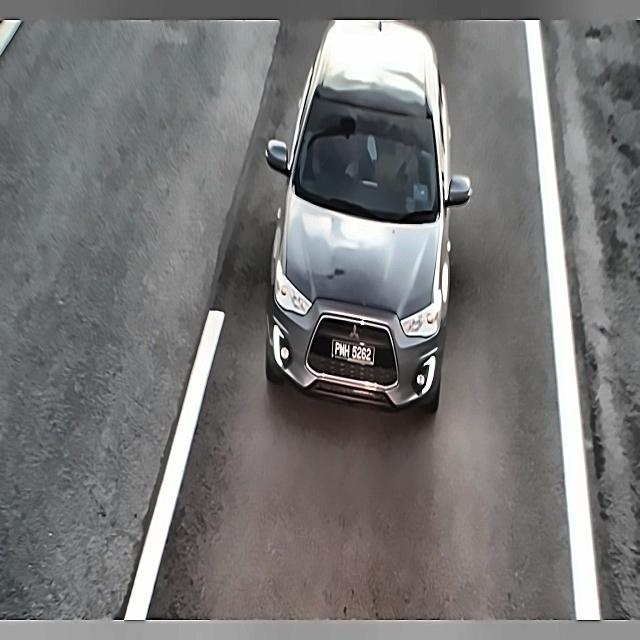car: (330, 333, 380, 369)
